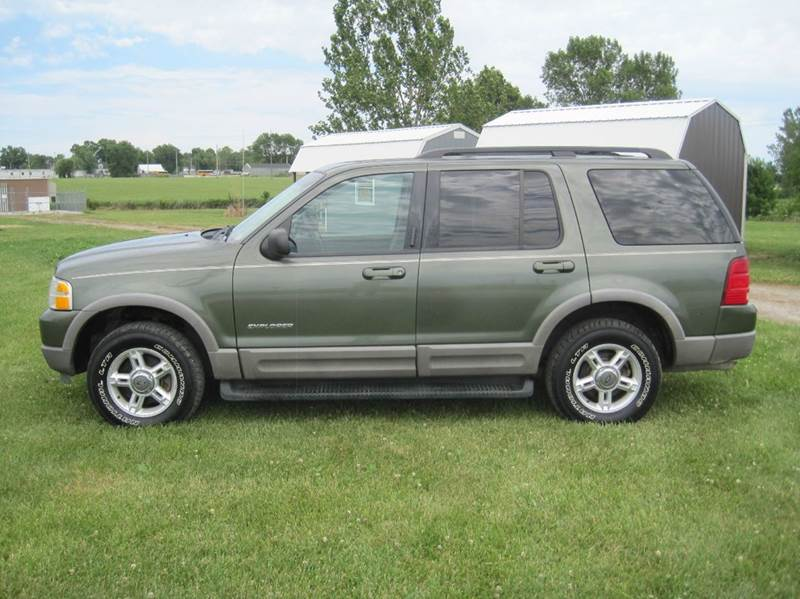Ford Explorer: (36, 133, 764, 442)
